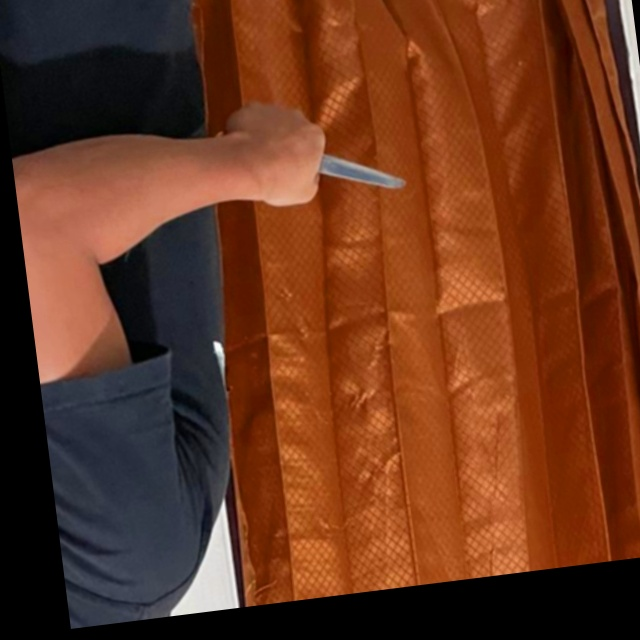Sharp-Object: (312, 141, 409, 201)
